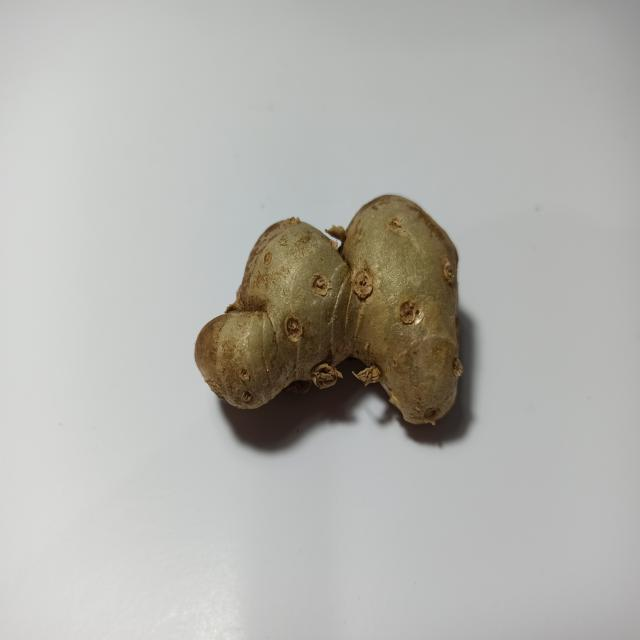ginger: (203, 194, 464, 438)
